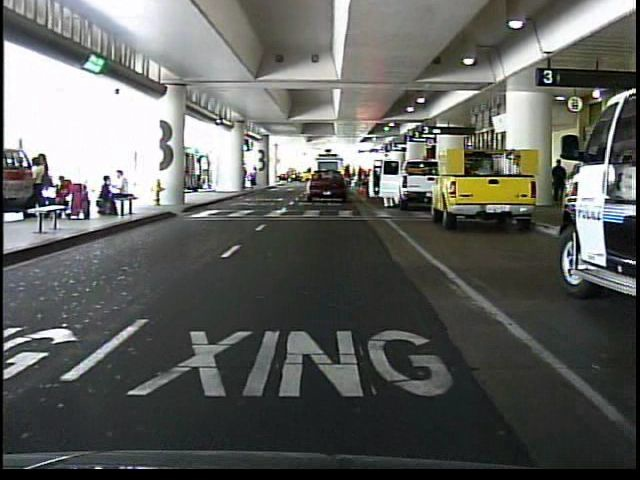person: (547, 154, 570, 209), (249, 166, 261, 191)
